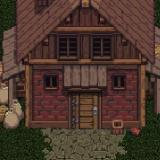Interaction: (12, 117, 83, 160)
Obstacle: (0, 0, 160, 160)
